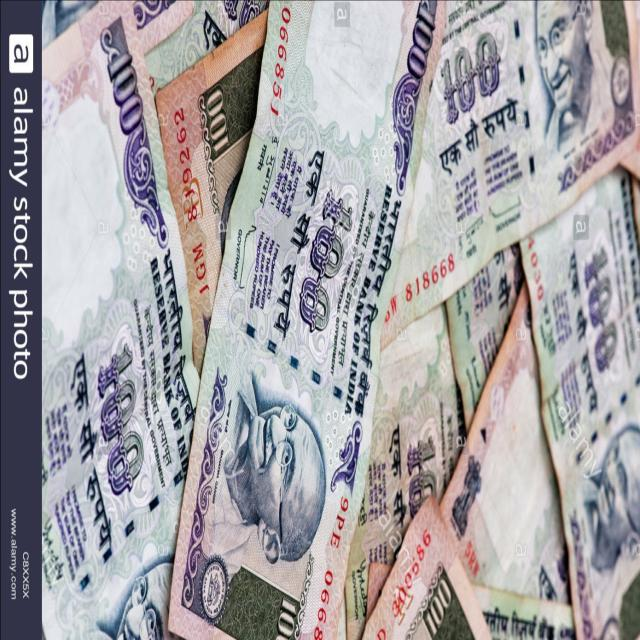100IndianRupees: (170, 0, 442, 640)
